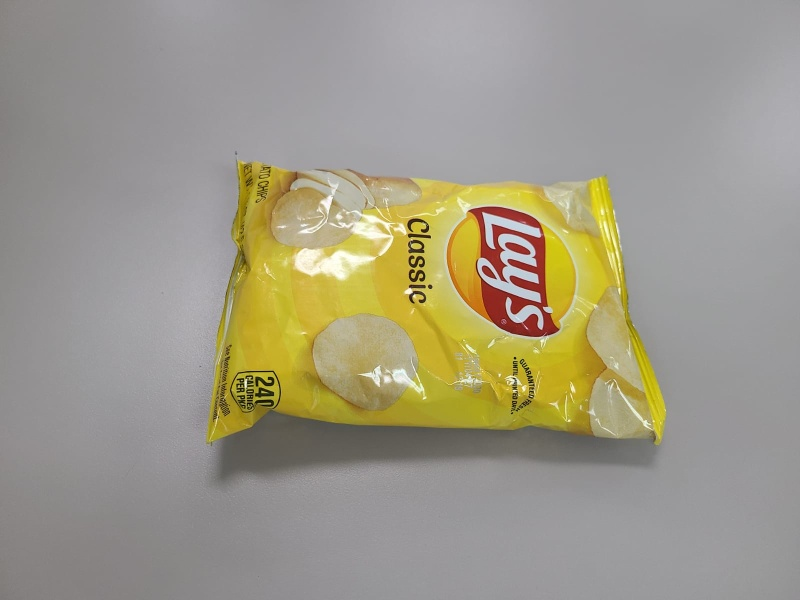lays: (206, 155, 669, 445)
